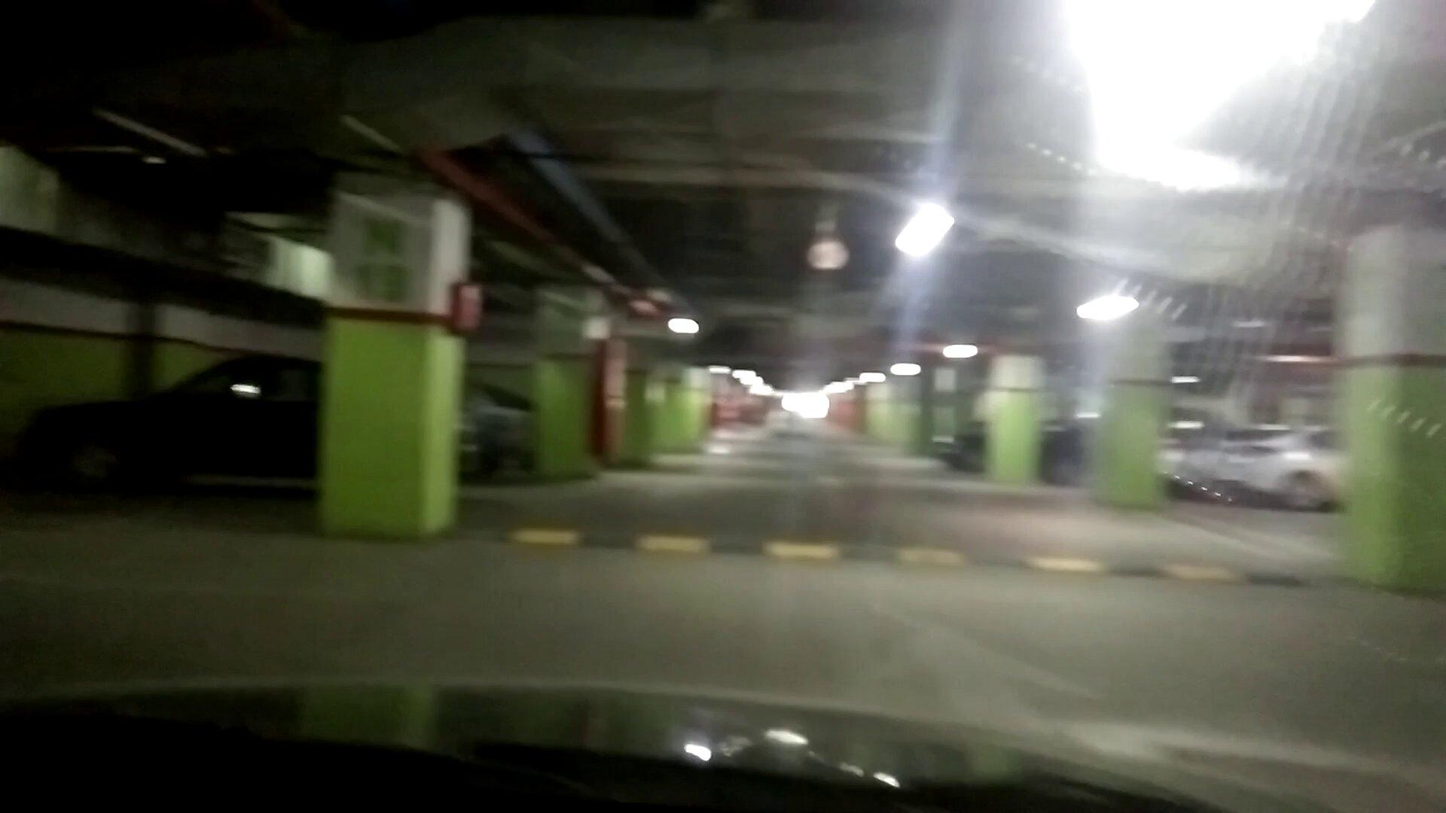Bump: (497, 518, 1344, 597)
